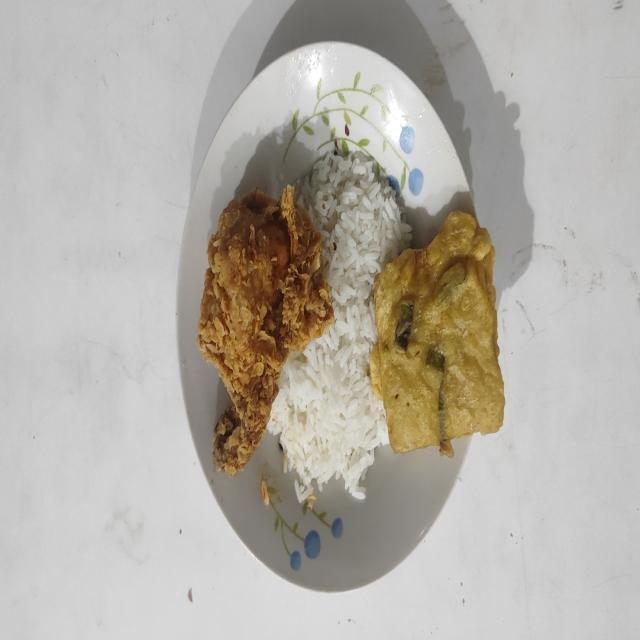nasi_putih: (267, 152, 412, 502)
